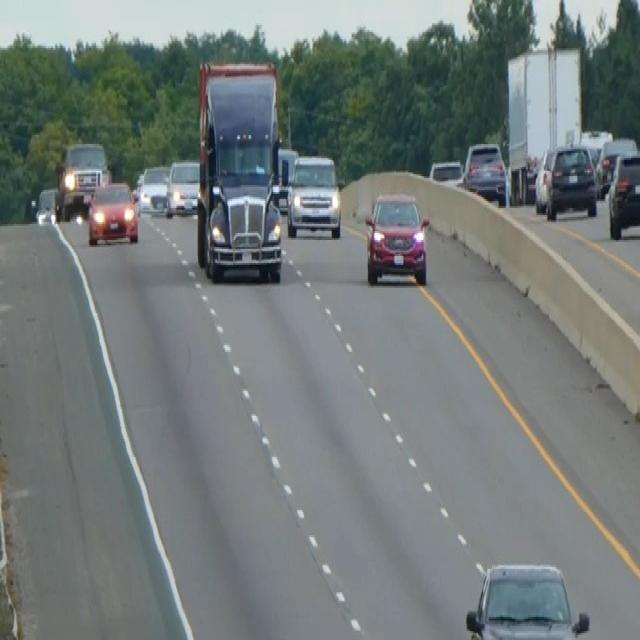car: (464, 558, 590, 638), (364, 188, 430, 286), (286, 153, 342, 238), (55, 138, 110, 218), (544, 142, 597, 220), (86, 178, 139, 245), (462, 140, 508, 207), (607, 151, 639, 238), (595, 135, 637, 197), (165, 158, 200, 217), (138, 164, 169, 214), (533, 146, 554, 212), (31, 185, 59, 226), (428, 156, 463, 185)
lorry: (194, 57, 284, 284)
